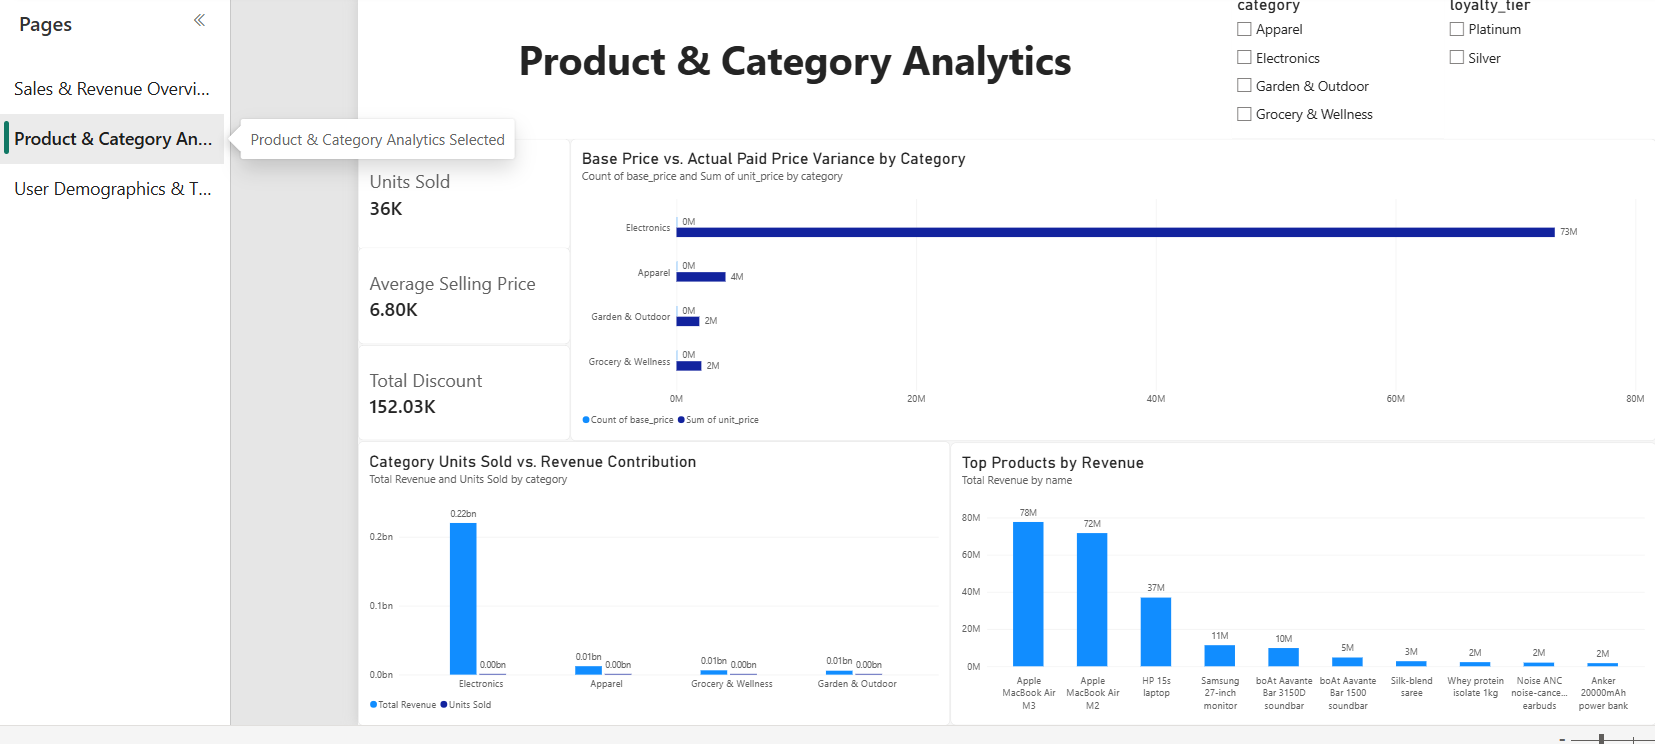

Layout of this report page (visuals, bound fields, positions):
{"tool":"powerbi","page":{"name":"Product & Category Analytics","canvas":[1920,1080],"ordinal":1},"visuals":[{"type":"clusteredColumnChart","title":"Top Products by Revenue","fields":{"Category":["dim_product.name"],"Y":["fact_order_line.Total Revenue"]},"box":[876.4,661.7,1044.6,418.3],"z":0},{"type":"clusteredColumnChart","title":"Category Units Sold vs. Revenue Contribution","fields":{"Category":["dim_product.category"],"Y":["fact_order_line.Total Revenue","fact_order_line.Units Sold"]},"box":[0,659.5,876.4,420.5],"z":1},{"type":"clusteredBarChart","title":"Base Price vs. Actual Paid Price Variance by Category","fields":{"Category":["dim_product.category"],"Y":["CountNonNull(dim_product.base_price)","Sum(fact_order_line.unit_price)"]},"box":[314.3,212.5,1606.7,447],"z":2},{"type":"cardVisual","fields":{"Data":["fact_order_line.Units Sold"]},"box":[0,212.5,314.3,166],"z":3},{"type":"cardVisual","fields":{"Data":["fact_order_line.Average Selling Price"]},"box":[0,374,314.3,143.9],"z":4},{"type":"cardVisual","fields":{"Data":["fact_order_line.Total Discount"]},"box":[0,517.9,314.3,141.6],"z":5},{"type":"slicer","fields":{"Values":["dim_user.loyalty_tier"]},"box":[1606.7,0,314.3,212.5],"z":6},{"type":"slicer","fields":{"Values":["dim_product.category"]},"box":[1292.5,0,314,212],"z":7},{"type":"textbox","box":[0,0,1292.5,212.5],"z":8}]}

Visuals, with their boxes on the page's 1920x1080 design canvas (x1, y1, x2, y2). These are canvas units, not pixel positions in the 1655x744 screenshot, which may show the page scaled, cropped or inside an application window:
"Top Products by Revenue" clusteredColumnChart: [x1=876, y1=662, x2=1921, y2=1080]
"Category Units Sold vs. Revenue Contribution" clusteredColumnChart: [x1=0, y1=660, x2=876, y2=1080]
"Base Price vs. Actual Paid Price Variance by Category" clusteredBarChart: [x1=314, y1=212, x2=1921, y2=660]
cardVisual - fact_order_line.Units Sold: [x1=0, y1=212, x2=314, y2=378]
cardVisual - fact_order_line.Average Selling Price: [x1=0, y1=374, x2=314, y2=518]
cardVisual - fact_order_line.Total Discount: [x1=0, y1=518, x2=314, y2=660]
slicer - dim_user.loyalty_tier: [x1=1607, y1=0, x2=1921, y2=212]
slicer - dim_product.category: [x1=1292, y1=0, x2=1606, y2=212]
textbox: [x1=0, y1=0, x2=1292, y2=212]
